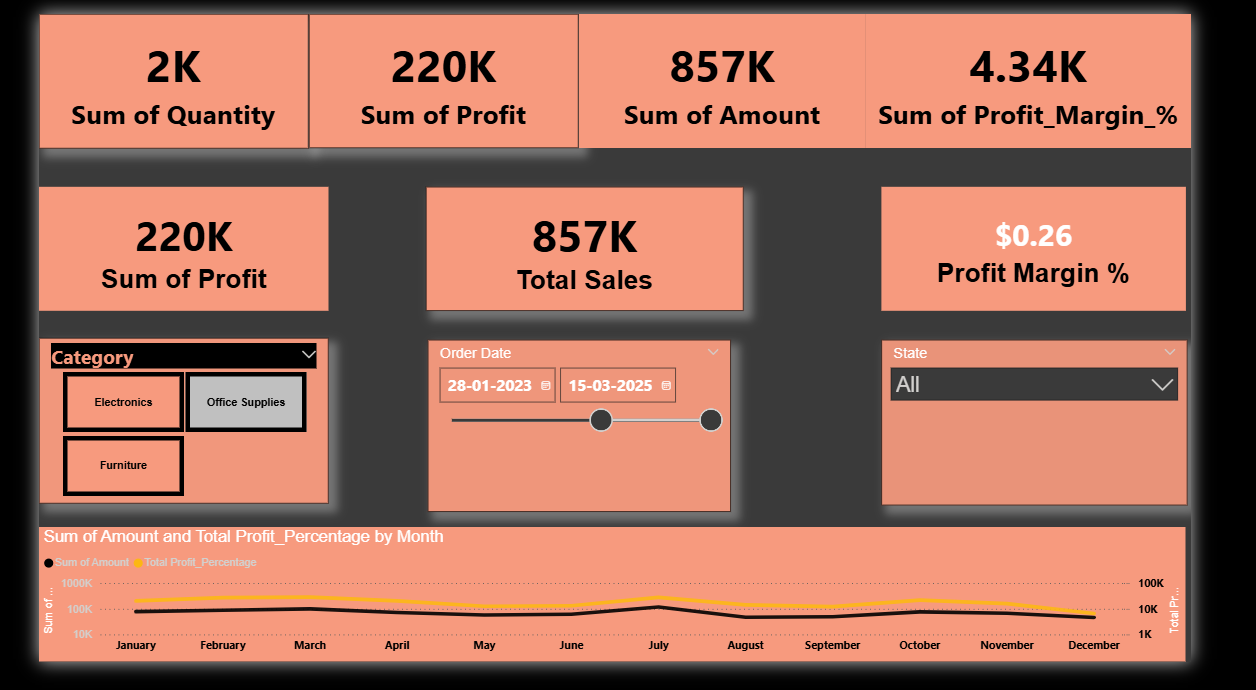

What the dashboard file says about the page in this screenshot:
{"tool":"powerbi","page":{"name":"Page 1","canvas":[1280,720],"ordinal":0},"visuals":[{"type":"card","fields":{"Values":["PowerBI_Sales_Dashboard_Data.Total Sales"]},"box":[430.3,191.2,353,137.9],"z":0},{"type":"card","fields":{"Values":["Sum(PowerBI_Sales_Dashboard_Data.Profit)"]},"box":[0,191.2,321.8,137.9],"z":1000},{"type":"card","fields":{"Values":["PowerBI_Sales_Dashboard_Data.Profit Margin %"]},"box":[935.9,191.2,338.3,137.9],"z":2000},{"type":"slicer","title":"category","fields":{"Values":["PowerBI_Sales_Dashboard_Data.Category"]},"box":[0,360.4,321.8,183.9],"z":3000},{"type":"slicer","fields":{"Values":["PowerBI_Sales_Dashboard_Data.Order Date"]},"box":[432.1,362.2,336.5,191.2],"z":4000},{"type":"slicer","fields":{"Values":["PowerBI_Sales_Dashboard_Data.State"]},"box":[935.9,362.2,340.2,183.9],"z":5000},{"type":"lineChart","fields":{"Category":["PowerBI_Sales_Dashboard_Data.Order Date.Variation.Date Hierarchy.Year","PowerBI_Sales_Dashboard_Data.Order Date.Variation.Date Hierarchy.Quarter","PowerBI_Sales_Dashboard_Data.Order Date.Variation.Date Hierarchy.Month","PowerBI_Sales_Dashboard_Data.Order Date.Variation.Date Hierarchy.Day"],"Y2":["PowerBI_Sales_Dashboard_Data.Total Profit_Percentage"],"Y":["Sum(PowerBI_Sales_Dashboard_Data.Amount)"]},"box":[0,570.2,1273.9,149.6],"z":6000},{"type":"card","fields":{"Values":["Sum(PowerBI_Sales_Dashboard_Data.Quantity)"]},"box":[0,0,299.3,149.6],"z":6001},{"type":"card","fields":{"Values":["Sum(PowerBI_Sales_Dashboard_Data.Profit)"]},"box":[299.7,0,299.7,148.9],"z":6002},{"type":"card","fields":{"Values":["Sum(PowerBI_Sales_Dashboard_Data.Amount)"]},"box":[599.4,0,318.1,148.9],"z":6003},{"type":"card","fields":{"Values":["Sum(PowerBI_Sales_Dashboard_Data.Profit_Margin_%)"]},"box":[917.5,0,362.2,148.9],"z":6004}]}

Visuals, with their boxes in screenshot pixels (x1, y1, x2, y2), scaled from the page's 1280x720 canvas onto the 1256x690 screenshot:
card - PowerBI_Sales_Dashboard_Data.Total Sales: <box>422,183,769,315</box>
card - Sum(PowerBI_Sales_Dashboard_Data.Profit): <box>0,183,316,315</box>
card - PowerBI_Sales_Dashboard_Data.Profit Margin %: <box>918,183,1250,315</box>
"category" slicer: <box>0,345,316,522</box>
slicer - PowerBI_Sales_Dashboard_Data.Order Date: <box>424,347,754,530</box>
slicer - PowerBI_Sales_Dashboard_Data.State: <box>918,347,1252,523</box>
lineChart - PowerBI_Sales_Dashboard_Data.Order Date.Variation.Date Hierarchy.Year x PowerBI_Sales_Dashboard_Data.Order Date.Variation.Date Hierarchy.Quarter: <box>0,546,1250,689</box>
card - Sum(PowerBI_Sales_Dashboard_Data.Quantity): <box>0,0,294,143</box>
card - Sum(PowerBI_Sales_Dashboard_Data.Profit): <box>294,0,588,143</box>
card - Sum(PowerBI_Sales_Dashboard_Data.Amount): <box>588,0,900,143</box>
card - Sum(PowerBI_Sales_Dashboard_Data.Profit_Margin_%): <box>900,0,1255,143</box>
